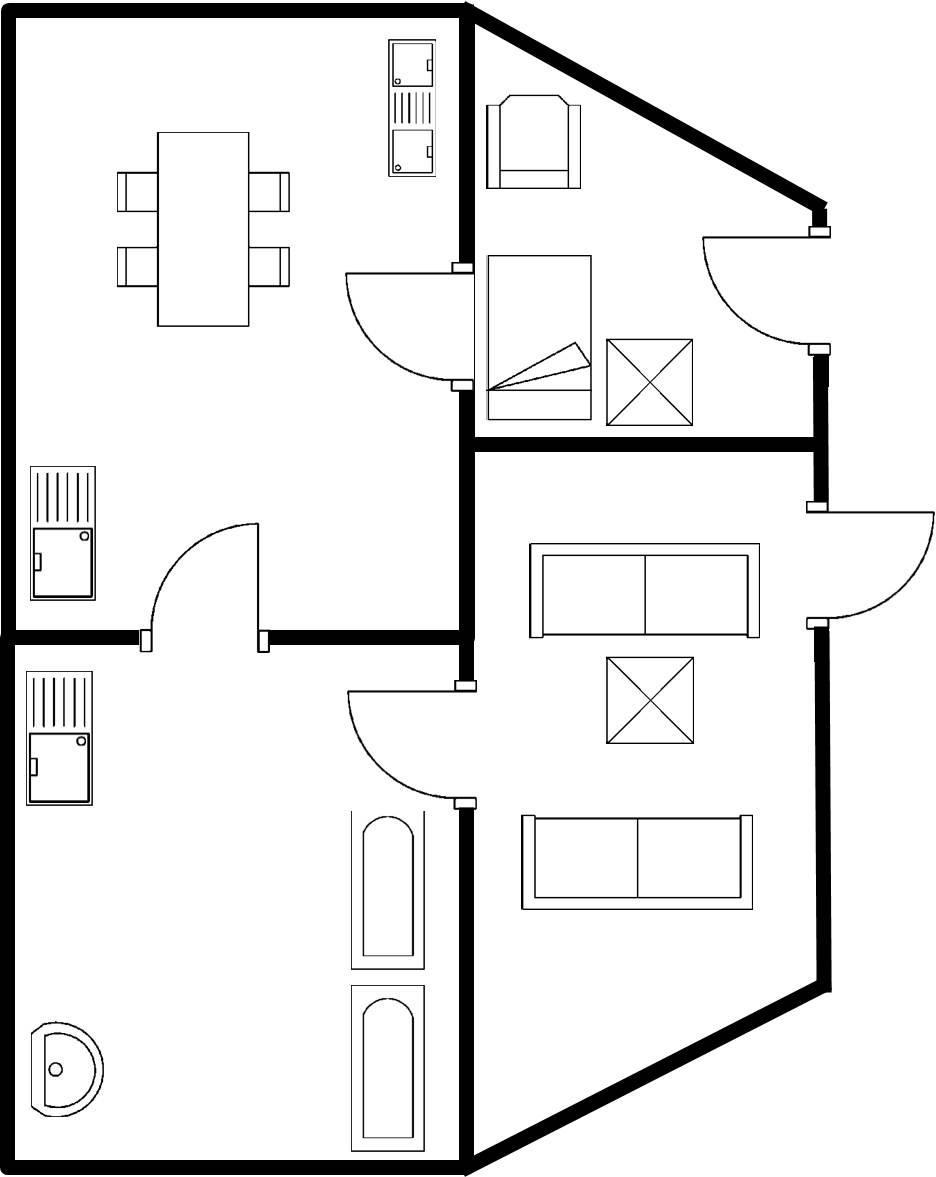sink: (377, 30, 443, 183)
